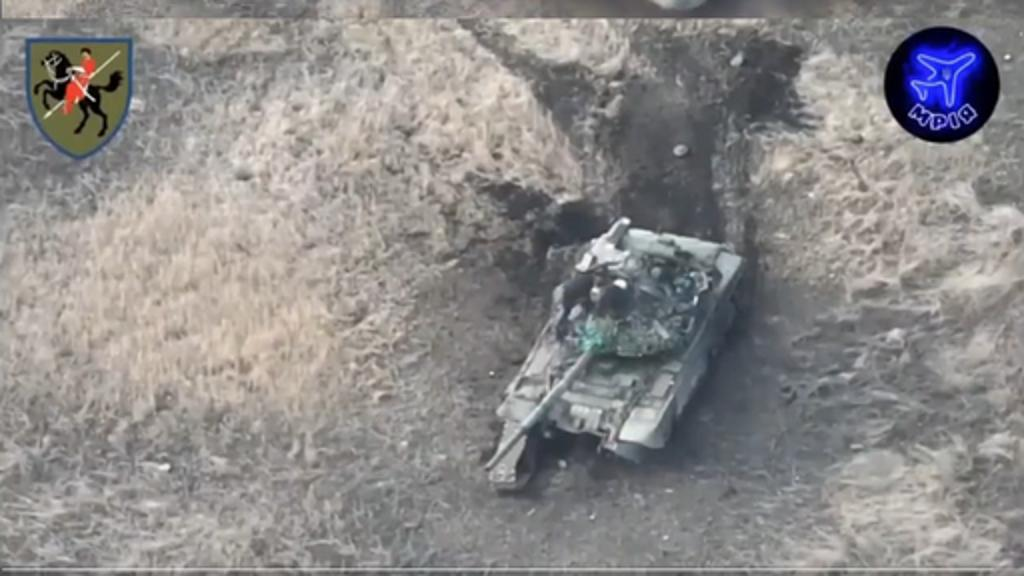TANK: (482, 212, 748, 490)
